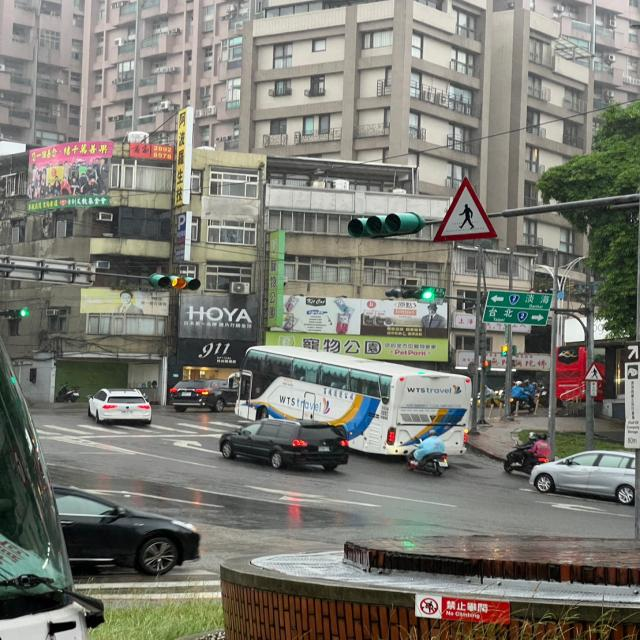green light: (386, 288, 438, 302), (6, 307, 33, 319)
yellow light: (150, 276, 201, 290)
